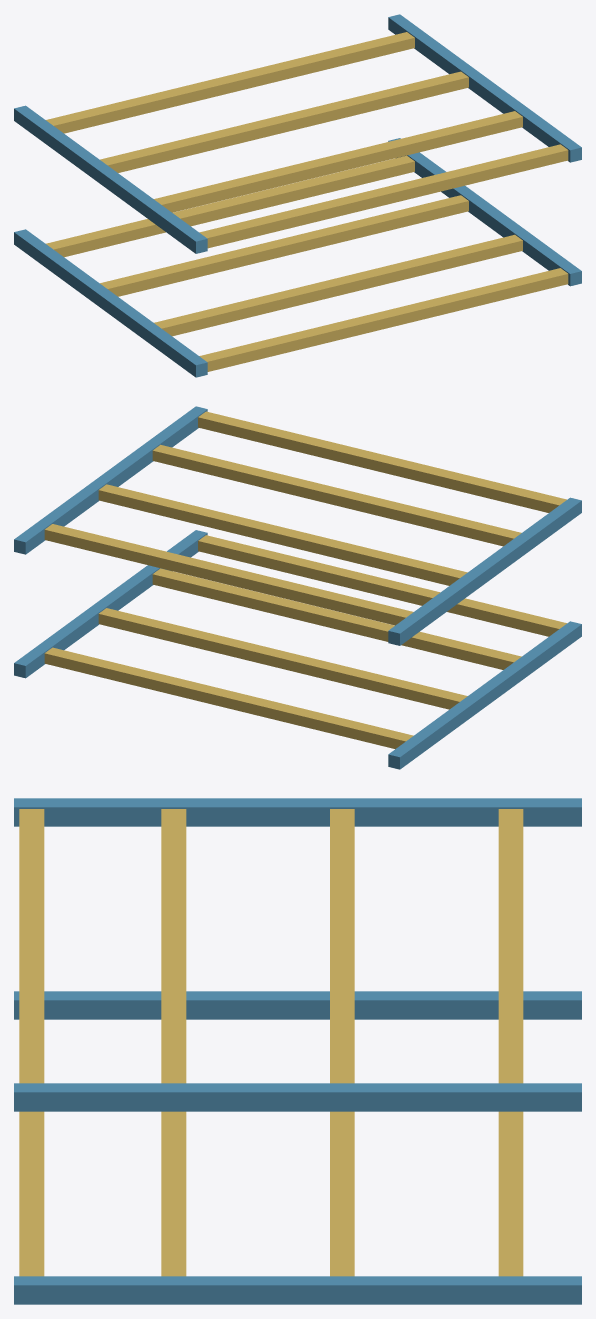
Rendered from pallet_rack.glb.
The picture shows the model from 3 angles, top to bottom: view 1: azimuth 30°, elevation 25°; view 2: azimuth 150°, elevation 25°; view 3: azimuth 270°, elevation 25°; orthographic projection. The views are drawn at different scales.
Parts seen in each view (by area): view 1: world; view 2: world; view 3: world.
Boxes of the visible parts, x1,y1,x2,y2 form: world: (14,14,581,377); world: (14,406,581,769); world: (14,798,581,1304).
Bounding box in the file's own units: 3.92 × 1.32 × 3.2.
